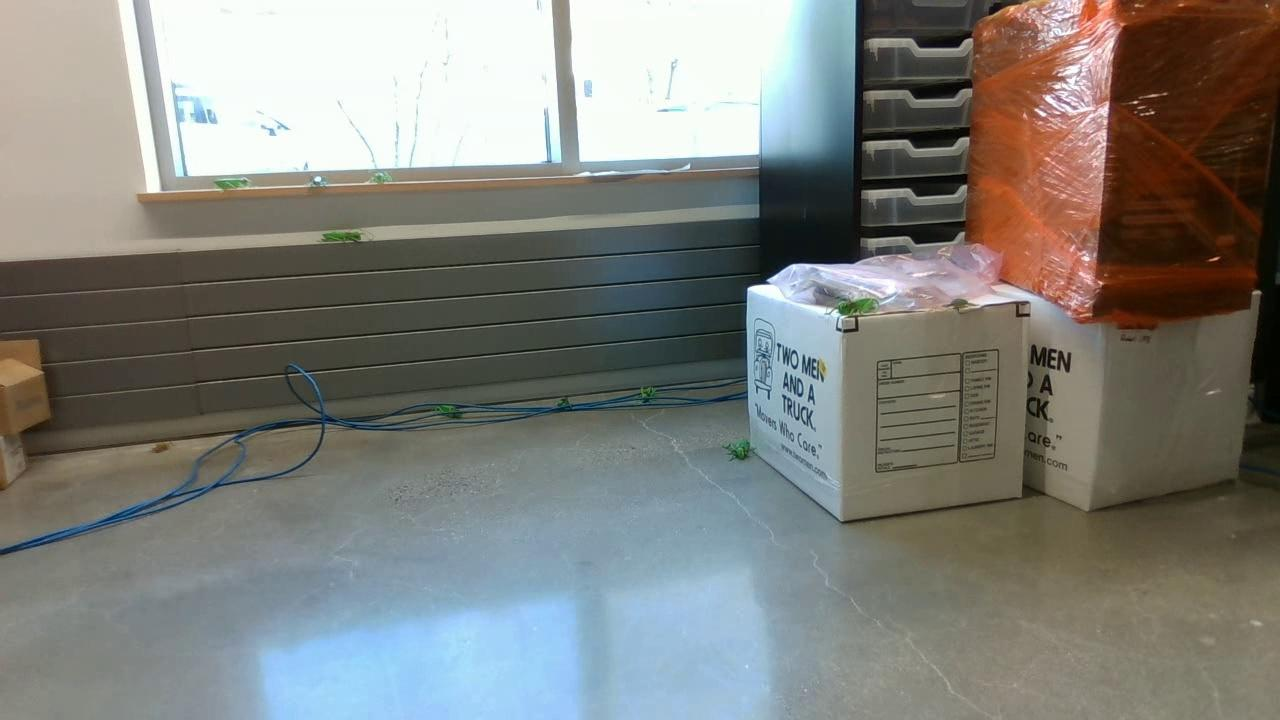grasshopper: (827, 294, 887, 316), (717, 430, 759, 457), (207, 177, 257, 193), (360, 168, 400, 187), (316, 227, 366, 242), (433, 398, 467, 418), (635, 377, 659, 405)
